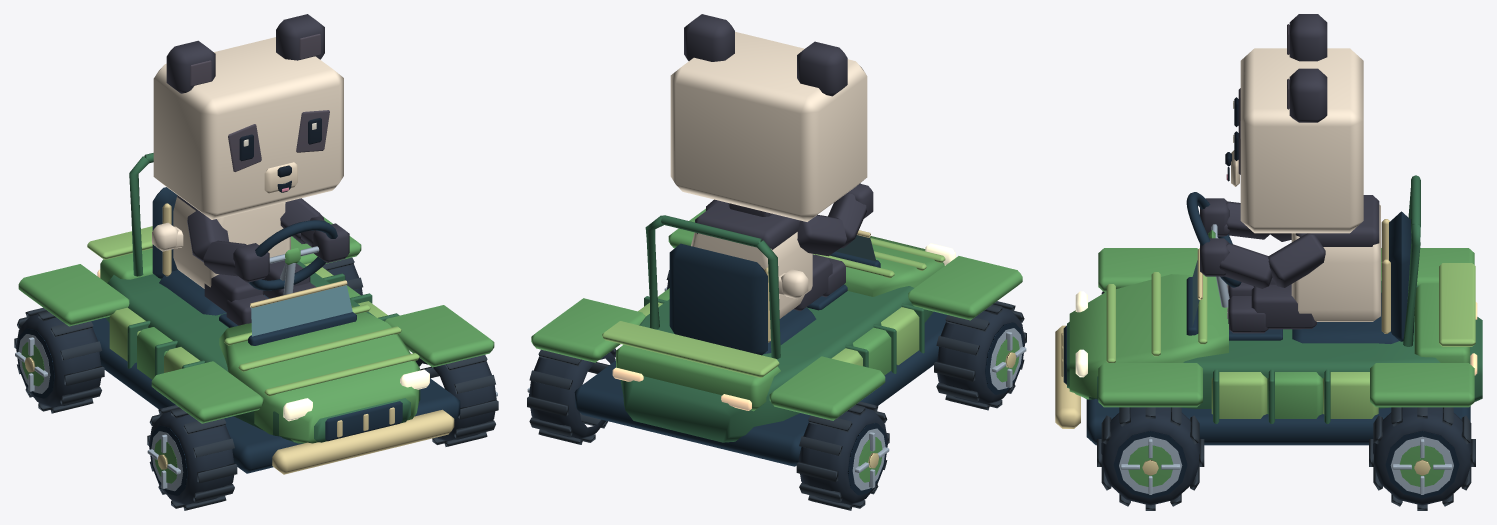
File: kart_panda_low.glb
3 renders of one model, left to right at view 1: azimuth 30°, elevation 25°; view 2: azimuth 150°, elevation 25°; view 3: azimuth 270°, elevation 25°, orthographic. The views are drawn at different scales.
Parts seen in each view (by area): view 1: chassis, driver_pose, wheel_fl_spin, wheel_rl_spin, wheel_fr_spin, steering, ear_l, ear_r, tail, eyes, wheel_rr_spin; view 2: chassis, driver_pose, wheel_rl_spin, wheel_fl_spin, wheel_rr_spin, ear_l, ear_r, tail; view 3: chassis, driver_pose, wheel_fr_spin, wheel_rr_spin, ear_r, ear_l, steering.
Boxes of the visible parts, x1,y1,x2,y2 form: chassis: (18, 153, 494, 474); driver_pose: (153, 37, 349, 325); wheel_fl_spin: (147, 405, 237, 510); wheel_rl_spin: (14, 308, 104, 413); wheel_fr_spin: (415, 355, 498, 446); steering: (248, 220, 337, 290); ear_l: (166, 40, 215, 93); ear_r: (276, 14, 324, 60); tail: (152, 222, 183, 251); eyes: (239, 118, 321, 161); wheel_rr_spin: (322, 257, 363, 295); chassis: (531, 208, 1022, 466); driver_pose: (670, 31, 873, 318); wheel_rl_spin: (796, 401, 889, 510); wheel_fl_spin: (934, 301, 1026, 410); wheel_rr_spin: (527, 348, 616, 444); ear_l: (797, 41, 847, 96); ear_r: (684, 14, 734, 61); tail: (778, 269, 808, 299); chassis: (1055, 175, 1482, 445); driver_pose: (1200, 48, 1380, 333); wheel_fr_spin: (1097, 407, 1204, 510); wheel_rr_spin: (1369, 407, 1475, 510); ear_r: (1287, 68, 1327, 122); ear_l: (1287, 14, 1327, 61); steering: (1186, 192, 1241, 287).
Size of what is drawn, in the model's own units: 1.46 by 1.64 by 1.63.
